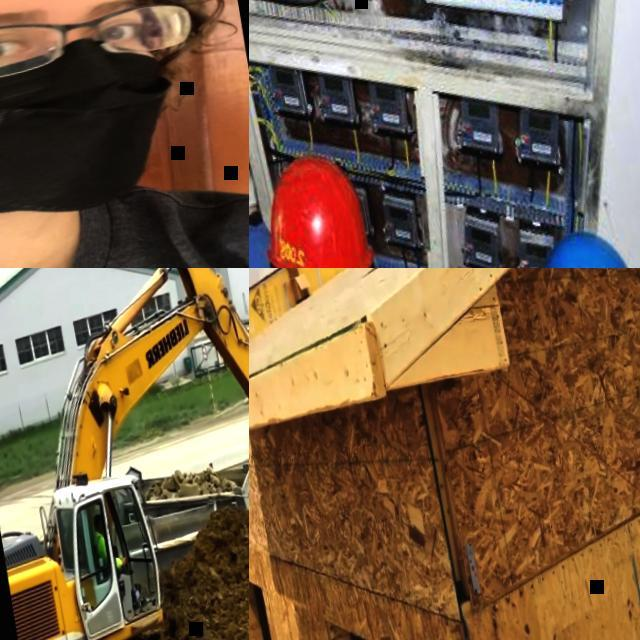helmet: (251, 147, 381, 268), (519, 228, 640, 268)
vest: (94, 532, 109, 564)
